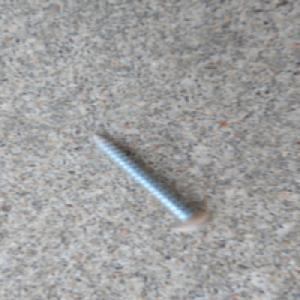Screw: (85, 130, 213, 234)
